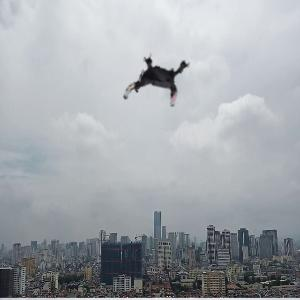drone: (125, 48, 192, 115)
